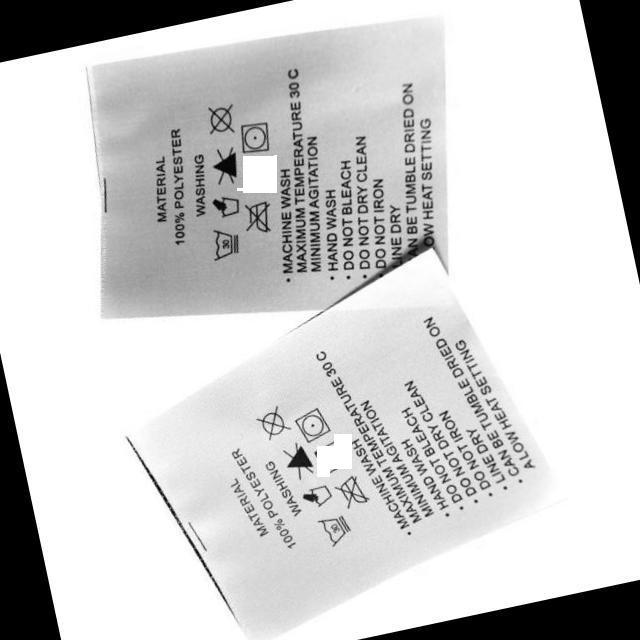30C: (206, 222, 243, 262)
40C: (315, 508, 357, 550)
DN_bleach: (278, 437, 316, 482), (206, 142, 242, 187)
DN_dry_clean: (252, 401, 294, 443), (202, 99, 240, 138)
DN_iron: (330, 469, 372, 512), (239, 198, 275, 236)
hand_wash: (298, 481, 334, 510), (210, 191, 242, 219)
tumble_dry_low: (290, 401, 334, 445), (234, 116, 274, 155)
